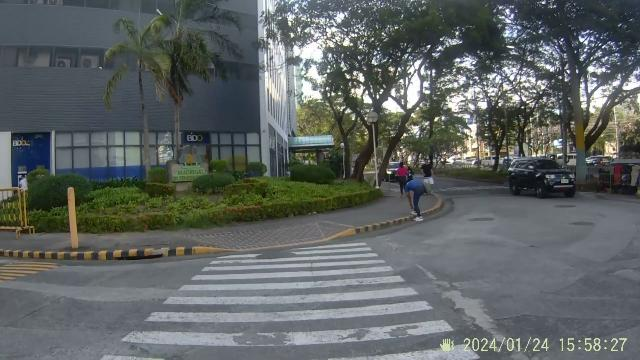lamp_post: (364, 108, 384, 190)
